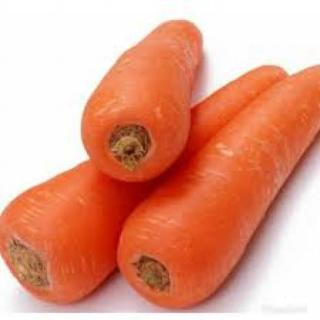Wortel: (117, 65, 320, 309), (80, 19, 206, 186), (1, 157, 125, 308)
